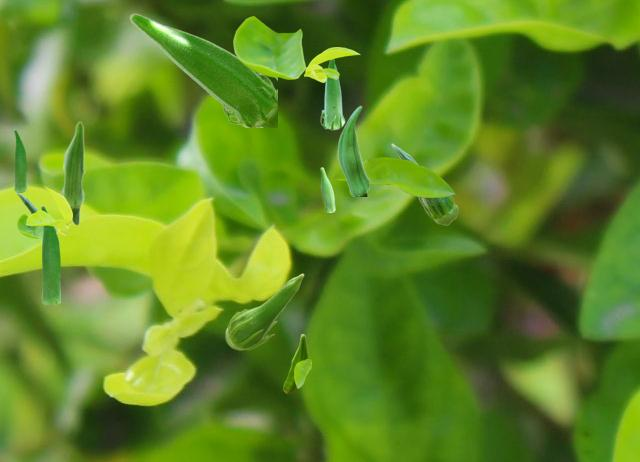okra: (129, 13, 276, 126), (225, 273, 303, 349), (391, 143, 457, 224), (337, 105, 368, 195), (61, 121, 84, 225), (41, 205, 59, 304), (320, 60, 344, 129), (16, 192, 55, 228), (283, 334, 306, 392), (14, 129, 25, 191), (320, 167, 334, 211)
